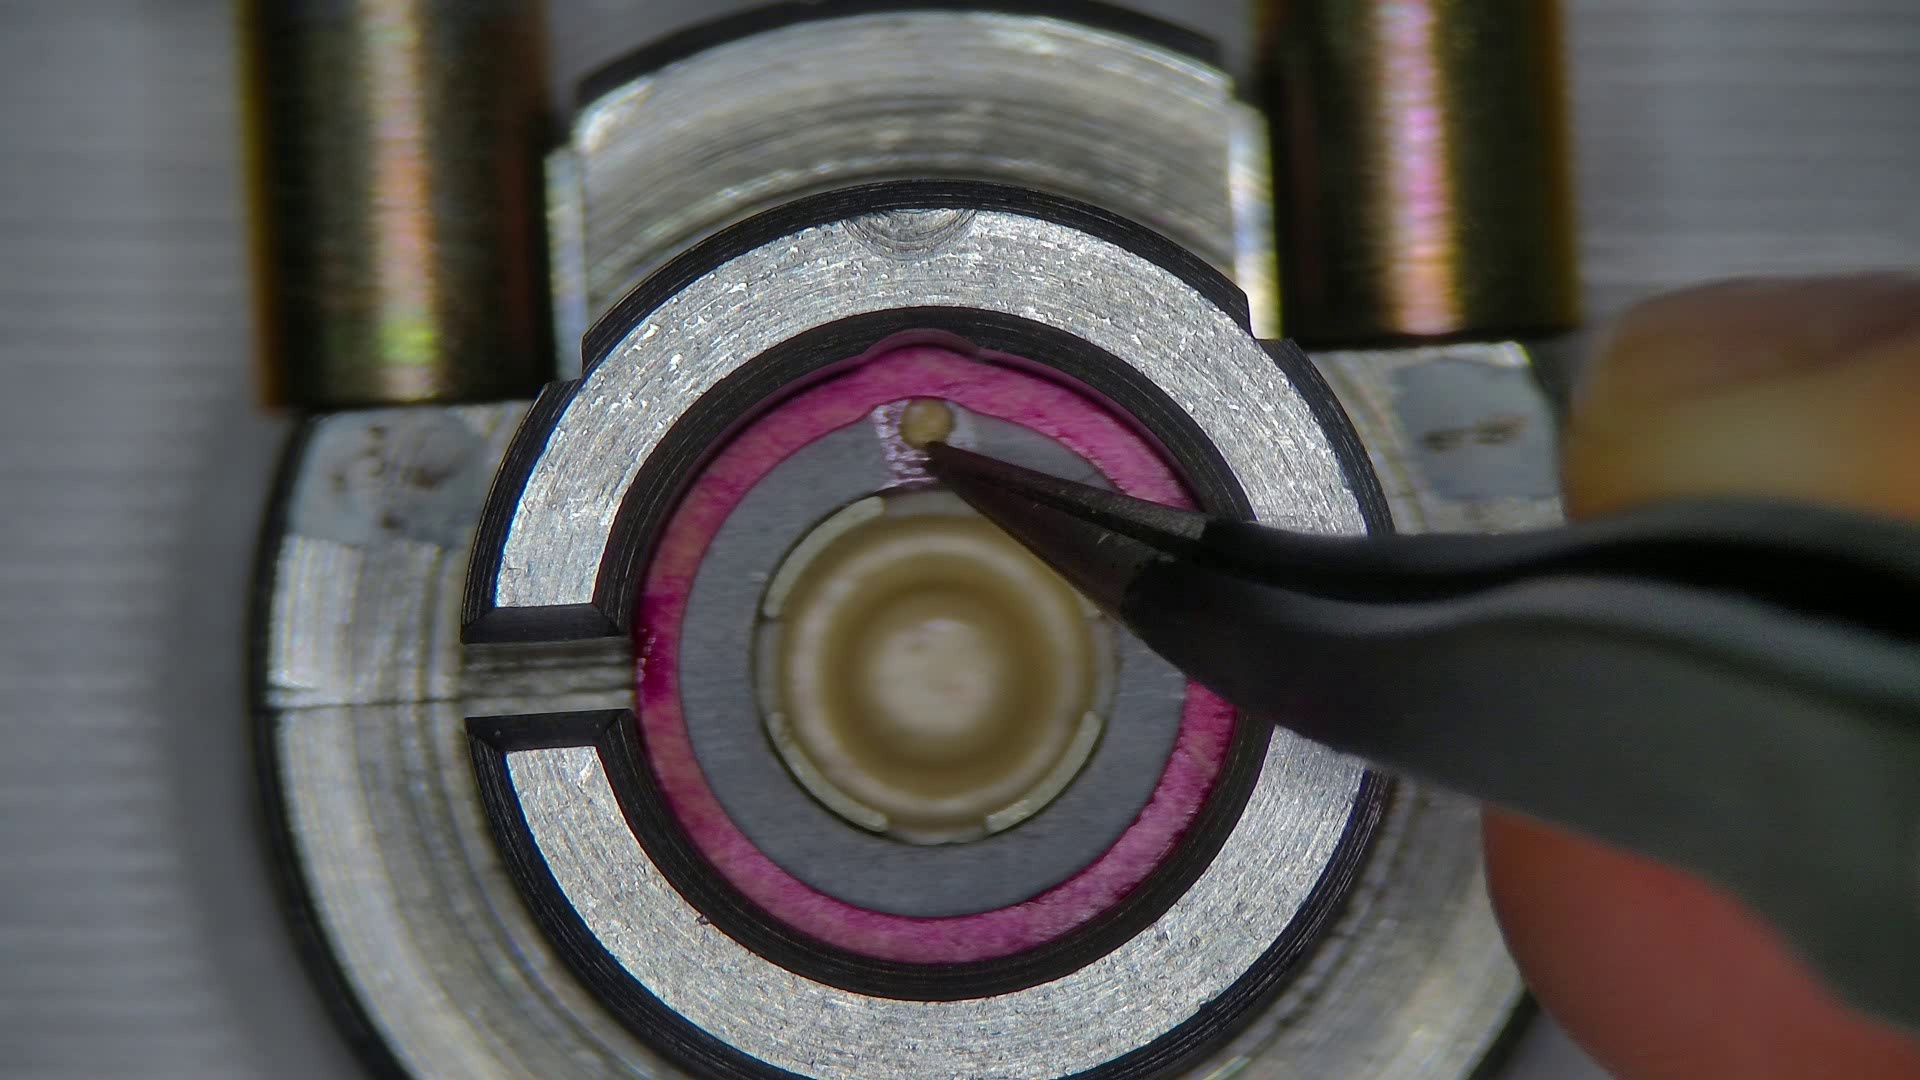GreyOring: (637, 345, 1226, 963)
YellowOring: (679, 402, 1182, 914), (969, 417, 1091, 477), (952, 434, 960, 439)
